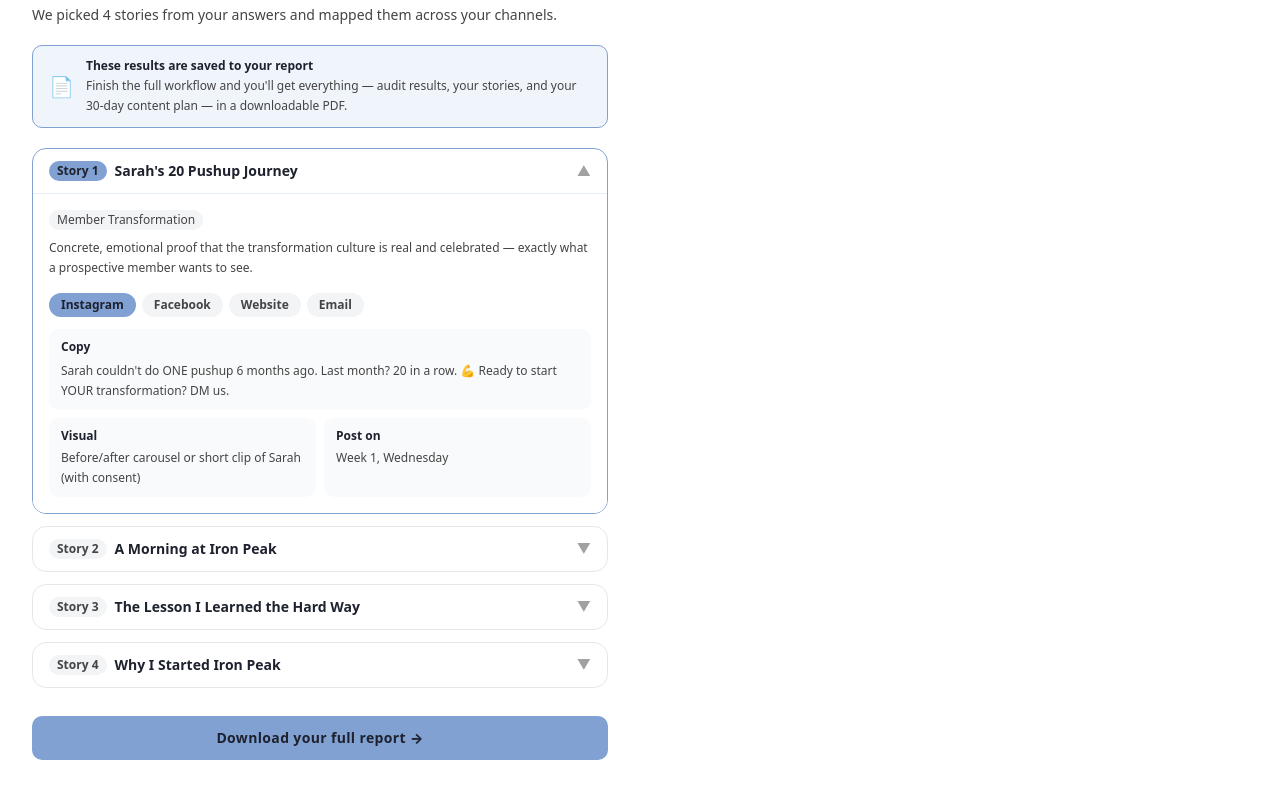
Test: on PDF failure: shows the error, no modal, and restarts the fallback timer
(page scrolled)
Click the button "Download your full report →" at (320, 738), box [32, 716, 608, 760]
Wait 30000 ms
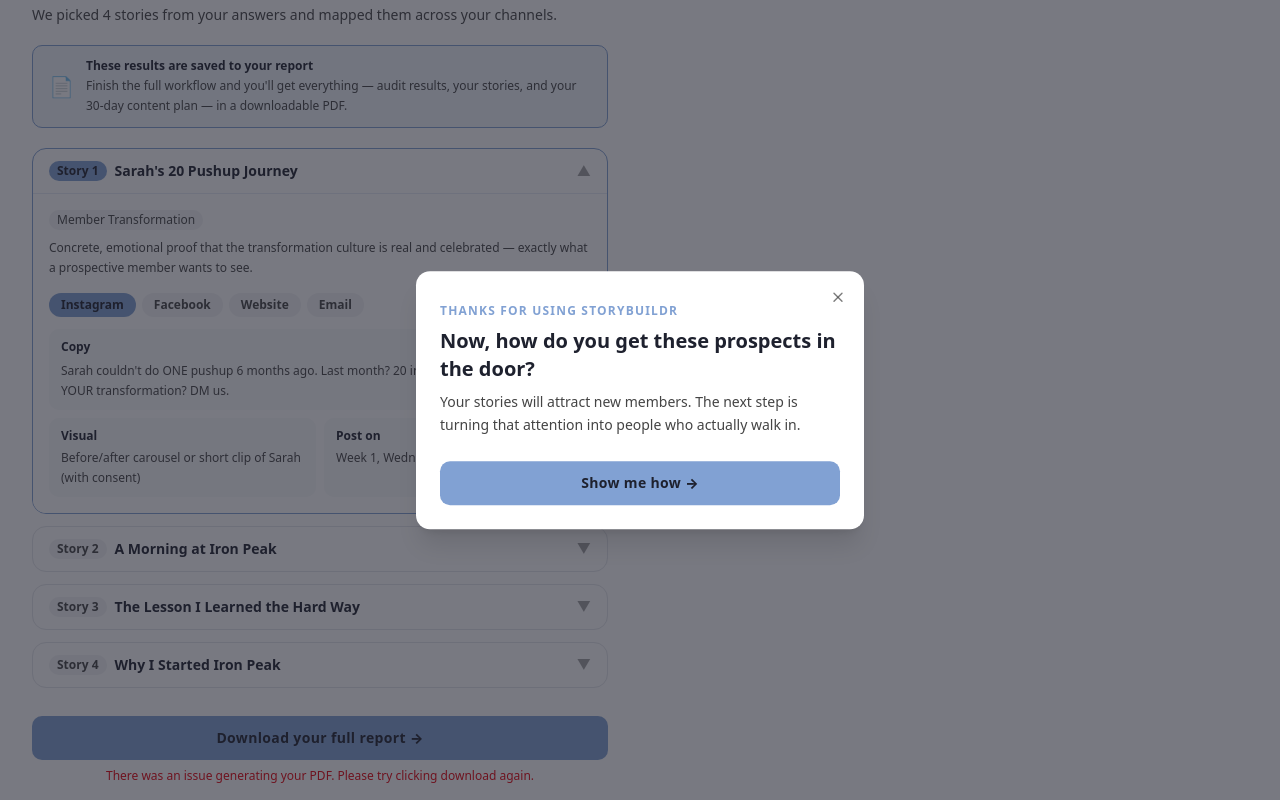
Result: the message reads "There was an issue generating your PDF. Please try clicking download again." at [106, 767, 534, 784]
Result: the heading "Now, how do you get these prospects in the door?" is shown at [440, 327, 840, 383]
